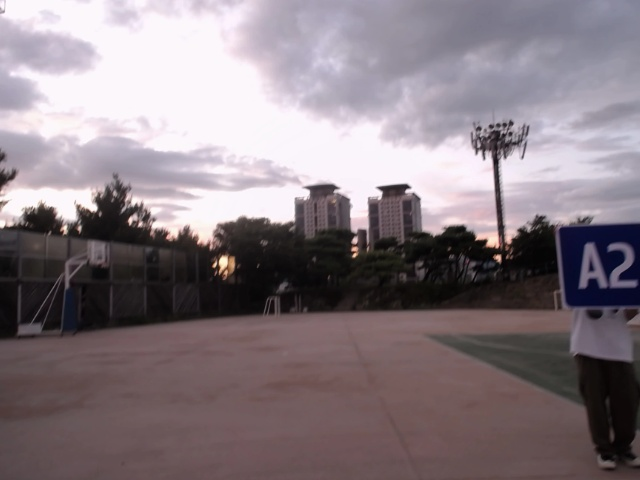delivery_a2: (556, 224, 639, 307)
